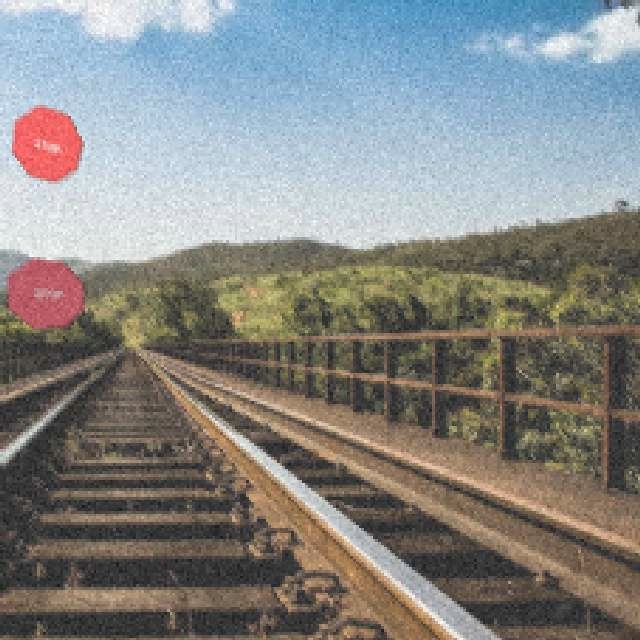STOP: (4, 255, 82, 327), (9, 102, 81, 180)
